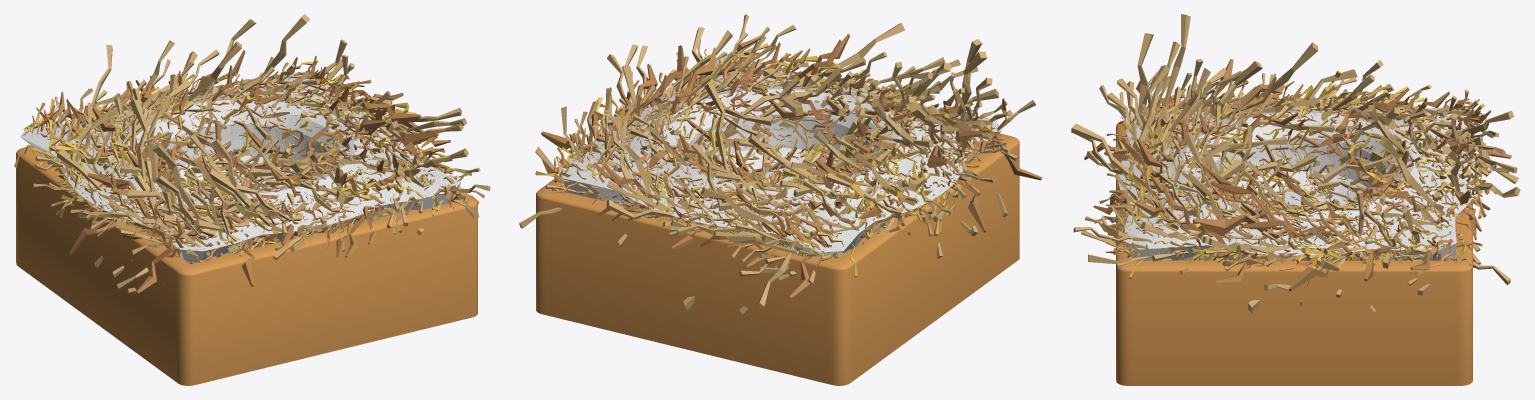
Rendered from nestingBox001.fbx.
3 renders of one model, left to right at view 1: azimuth 30°, elevation 25°; view 2: azimuth 150°, elevation 25°; view 3: azimuth 270°, elevation 25°, orthographic. The views are drawn at different scales.
Parts seen in each view (by area): view 1: Box.003, Nest.006_konti langs, Nest.006_konti langs|Cube.001|Dupli|2702, Nest.006_konti langs|Cube.001|Dupli|674, Nest.006_konti langs|Cube.001|Dupli|2348, Nest.006_konti langs|Cube.001|Dupli|2999, Nest.006_konti langs|Cube.001|Dupli|1122, Nest.006_konti langs|Cube.001|Dupli|2778, Nest.006_konti langs|Cube.001|Dupli|2789, Nest.006_konti langs|Cube.002|Dupli|4237, Nest.006_konti langs|Cube.001|Dupli|2309; view 2: Box.003, Nest.006_konti langs, Nest.006_konti langs|Cube.001|Dupli|1122, Nest.006_konti langs|Cube.001|Dupli|674, Nest.006_konti langs|Cube.001|Dupli|3821, Nest.006_konti langs|Cube.001|Dupli|3405, Nest.006_konti langs|Cube.001|Dupli|2348, Nest.006_konti langs|Cube.001|Dupli|2702, Nest.006_konti langs|Cube.001|Dupli|1360, Nest.006_konti langs|Cube.001|Dupli|839, Nest.006_konti langs|Cube.001|Dupli|4066, Nest.006_konti langs|Cube.001|Dupli|986; view 3: Box.003, Nest.006_konti langs, Nest.006_konti langs|Cube.001|Dupli|2702, Nest.006_konti langs|Cube.002|Dupli|4237, Nest.006_konti langs|Cube.001|Dupli|674, Nest.006_konti langs|Cube.001|Dupli|3405, Nest.006_konti langs|Cube.001|Dupli|2778, Nest.006_konti langs|Cube.001|Dupli|2348, Nest.006_konti langs|Cube.001|Dupli|2637, Nest.006_konti langs|Cube.001|Dupli|2924, Nest.006_konti langs|Cube.001|Dupli|4066, Nest.006_konti langs|Cube.001|Dupli|2730 (+6 smaller).
Boxes of the visible parts, left/top/right/bottom form: Box.003: left=16, top=146, right=477, bottom=385; Nest.006_konti langs: left=20, top=73, right=460, bottom=262; Nest.006_konti langs|Cube.001|Dupli|2702: left=152, top=143, right=213, bottom=221; Nest.006_konti langs|Cube.001|Dupli|674: left=242, top=14, right=310, bottom=88; Nest.006_konti langs|Cube.001|Dupli|2348: left=129, top=99, right=158, bottom=197; Nest.006_konti langs|Cube.001|Dupli|2999: left=208, top=168, right=282, bottom=238; Nest.006_konti langs|Cube.001|Dupli|1122: left=176, top=41, right=241, bottom=114; Nest.006_konti langs|Cube.001|Dupli|2778: left=193, top=158, right=239, bottom=252; Nest.006_konti langs|Cube.001|Dupli|2789: left=156, top=175, right=217, bottom=236; Nest.006_konti langs|Cube.002|Dupli|4237: left=378, top=123, right=438, bottom=145; Nest.006_konti langs|Cube.001|Dupli|2309: left=57, top=149, right=106, bottom=191; Box.003: left=536, top=133, right=1019, bottom=385; Nest.006_konti langs: left=558, top=56, right=1001, bottom=256; Nest.006_konti langs|Cube.001|Dupli|1122: left=704, top=83, right=740, bottom=180; Nest.006_konti langs|Cube.001|Dupli|674: left=620, top=65, right=636, bottom=178; Nest.006_konti langs|Cube.001|Dupli|3821: left=751, top=67, right=841, bottom=130; Nest.006_konti langs|Cube.001|Dupli|3405: left=811, top=23, right=905, bottom=78; Nest.006_konti langs|Cube.001|Dupli|2348: left=871, top=99, right=927, bottom=154; Nest.006_konti langs|Cube.001|Dupli|2702: left=940, top=51, right=987, bottom=120; Nest.006_konti langs|Cube.001|Dupli|1360: left=700, top=187, right=784, bottom=225; Nest.006_konti langs|Cube.001|Dupli|839: left=613, top=115, right=652, bottom=209; Nest.006_konti langs|Cube.001|Dupli|4066: left=664, top=30, right=732, bottom=98; Nest.006_konti langs|Cube.001|Dupli|986: left=606, top=200, right=695, bottom=226; Box.003: left=1116, top=120, right=1472, bottom=385; Nest.006_konti langs: left=1118, top=99, right=1479, bottom=260; Nest.006_konti langs|Cube.001|Dupli|2702: left=1160, top=14, right=1190, bottom=120; Nest.006_konti langs|Cube.002|Dupli|4237: left=1193, top=214, right=1287, bottom=239; Nest.006_konti langs|Cube.001|Dupli|674: left=1379, top=136, right=1444, bottom=211; Nest.006_konti langs|Cube.001|Dupli|3405: left=1071, top=123, right=1160, bottom=189; Nest.006_konti langs|Cube.001|Dupli|2778: left=1124, top=33, right=1153, bottom=139; Nest.006_konti langs|Cube.001|Dupli|2348: left=1243, top=42, right=1318, bottom=110; Nest.006_konti langs|Cube.001|Dupli|2637: left=1209, top=61, right=1262, bottom=117; Nest.006_konti langs|Cube.001|Dupli|2924: left=1163, top=68, right=1210, bottom=143; Nest.006_konti langs|Cube.001|Dupli|4066: left=1185, top=172, right=1253, bottom=239; Nest.006_konti langs|Cube.001|Dupli|2730: left=1233, top=153, right=1315, bottom=181.
Size of the model in its own units: 257 by 139 by 252.
